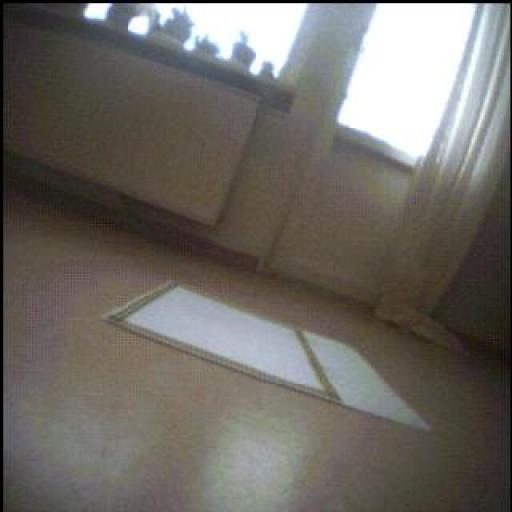Pad: (105, 285, 430, 432)
